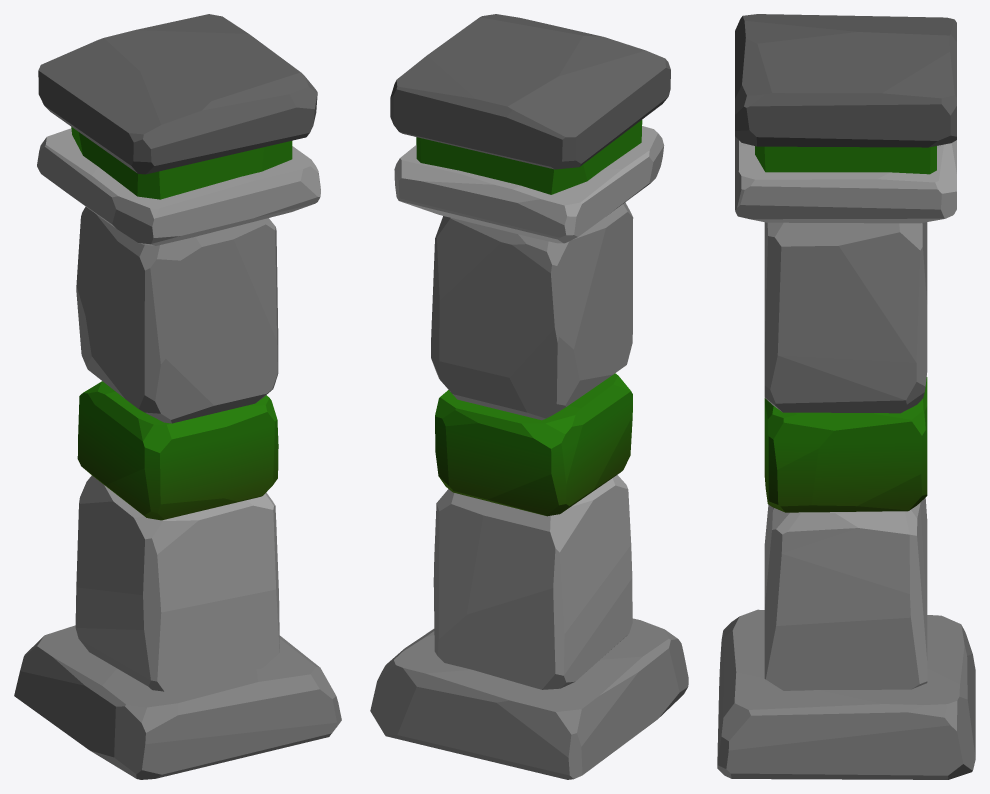
File: Pillar01.fbx
3 views of the same model, side by side, from view 1: azimuth 30°, elevation 25°; view 2: azimuth 150°, elevation 25°; view 3: azimuth 270°, elevation 25° (orthographic). The views are drawn at different scales.
Parts seen in each view (by area): view 1: LOD0; view 2: LOD0; view 3: LOD0.
Boxes of the visible parts, x1,y1,x2,y2 form: LOD0: [14, 14, 341, 779]; LOD0: [370, 14, 688, 779]; LOD0: [717, 14, 975, 779].
Size of what is drawn, in the model's own units: 146 by 146 by 423.
